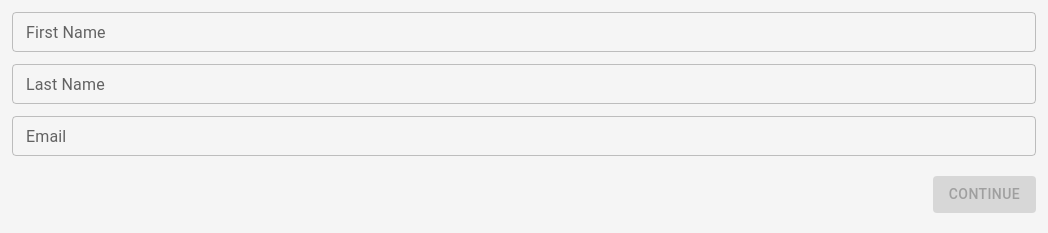
ContactSection › enables continue button when form is valid
Step 1. Type "John" into the field labelled "First Name" → (524, 32), box [12,12,1036,52]
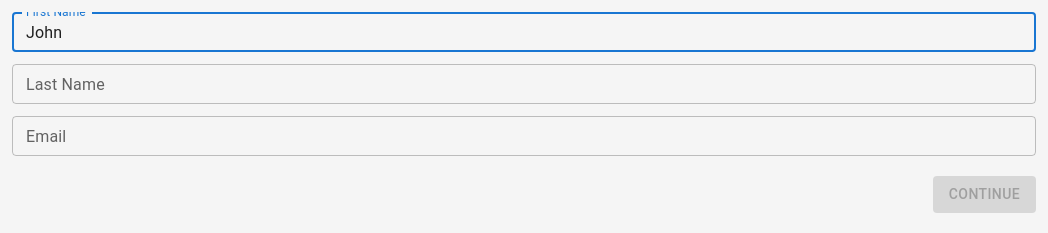
Step 2. Type "Doe" into the field labelled "Last Name" → (524, 84), box [12,64,1036,104]
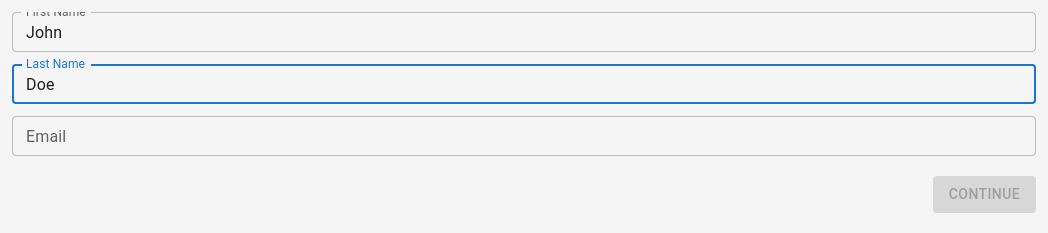
Step 3. Type "john@example.com" into the field labelled "Email" → (524, 136), box [12,116,1036,156]
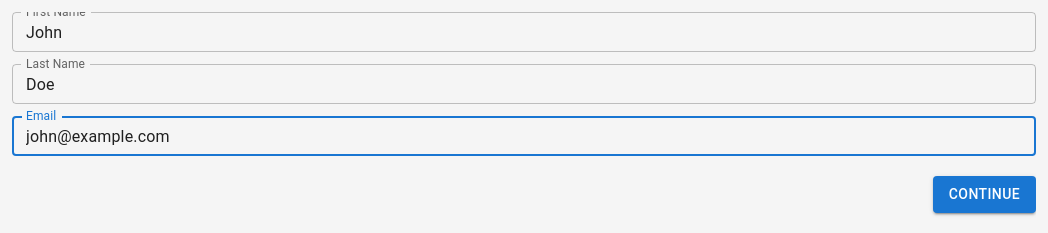
Result: the button "Continue" is enabled at [933,176,1036,212]
